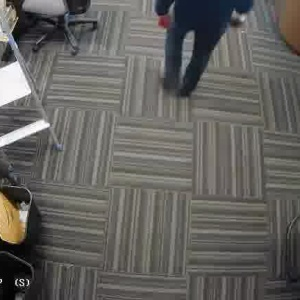person: (155, 0, 256, 107)
